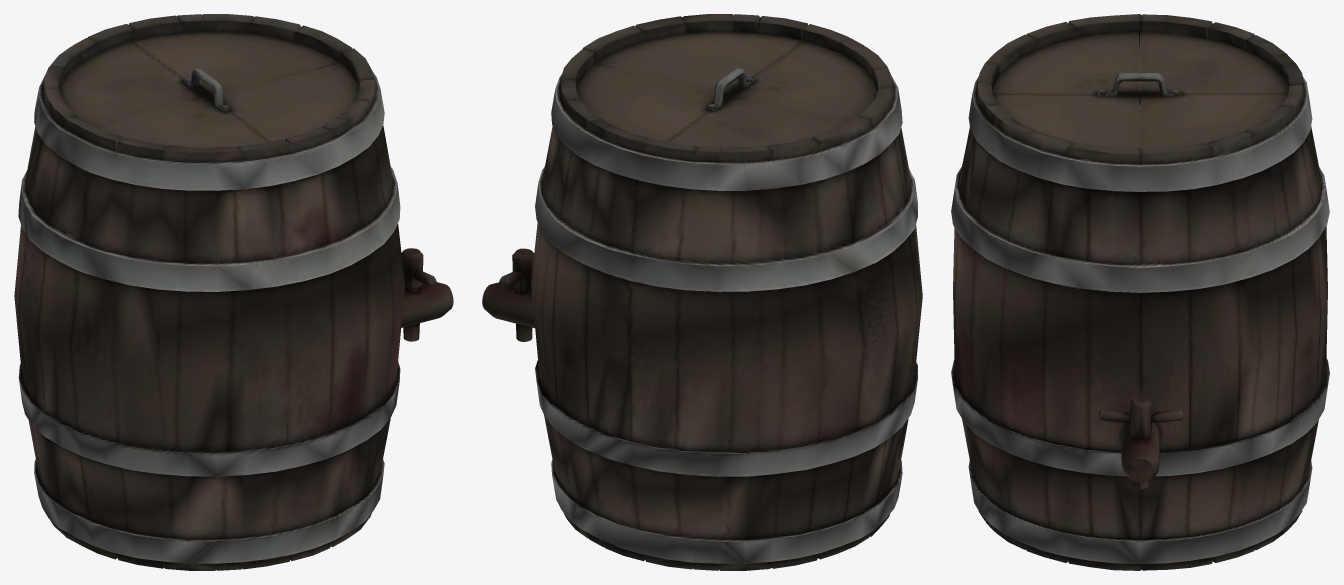
Rendered from barrel_alcohol.glb.
3 renders of one model, left to right at view 1: azimuth 30°, elevation 25°; view 2: azimuth 150°, elevation 25°; view 3: azimuth 270°, elevation 25°, orthographic.
Parts seen in each view (by area): view 1: model; view 2: model; view 3: model.
Part boxes in pixels (x1,y1,x2,y2): model: [14, 14, 453, 570]; model: [482, 14, 922, 570]; model: [951, 14, 1329, 570].
Bounding box in the file's own units: 1 × 1 × 0.8075.
Materials: 1 (1 with a texture image).
